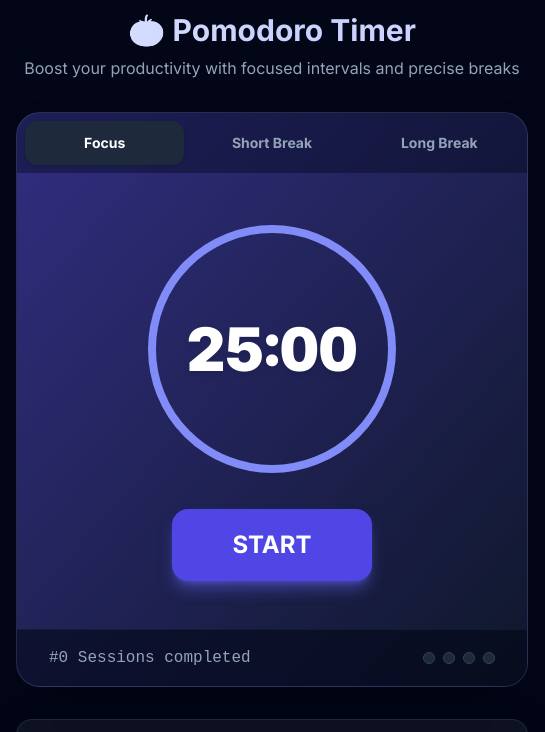
Test: Pomodoro Timer › switching to long break changes timer display
Click the button "Long Break" at [439, 143], box x1=360 y1=121 x2=519 y2=165
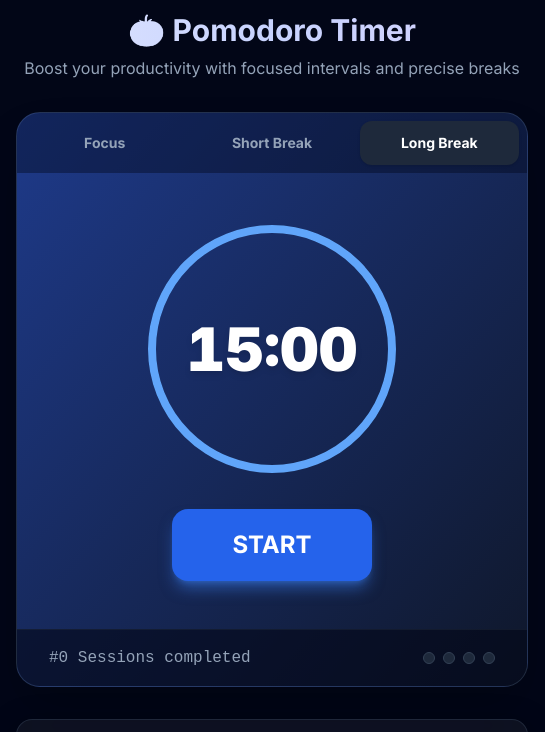
Expected: the text "15:00" is shown, x1=187 y1=319 x2=357 y2=379
